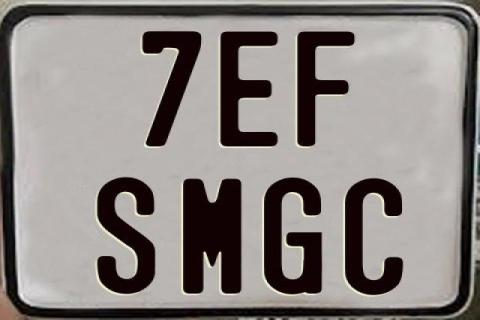0: (142, 30, 206, 148)
C: (342, 178, 400, 298)
E: (219, 31, 283, 149)
F: (296, 31, 358, 151)
G: (264, 177, 325, 296)
M: (180, 177, 244, 293)
S: (97, 176, 159, 295)
